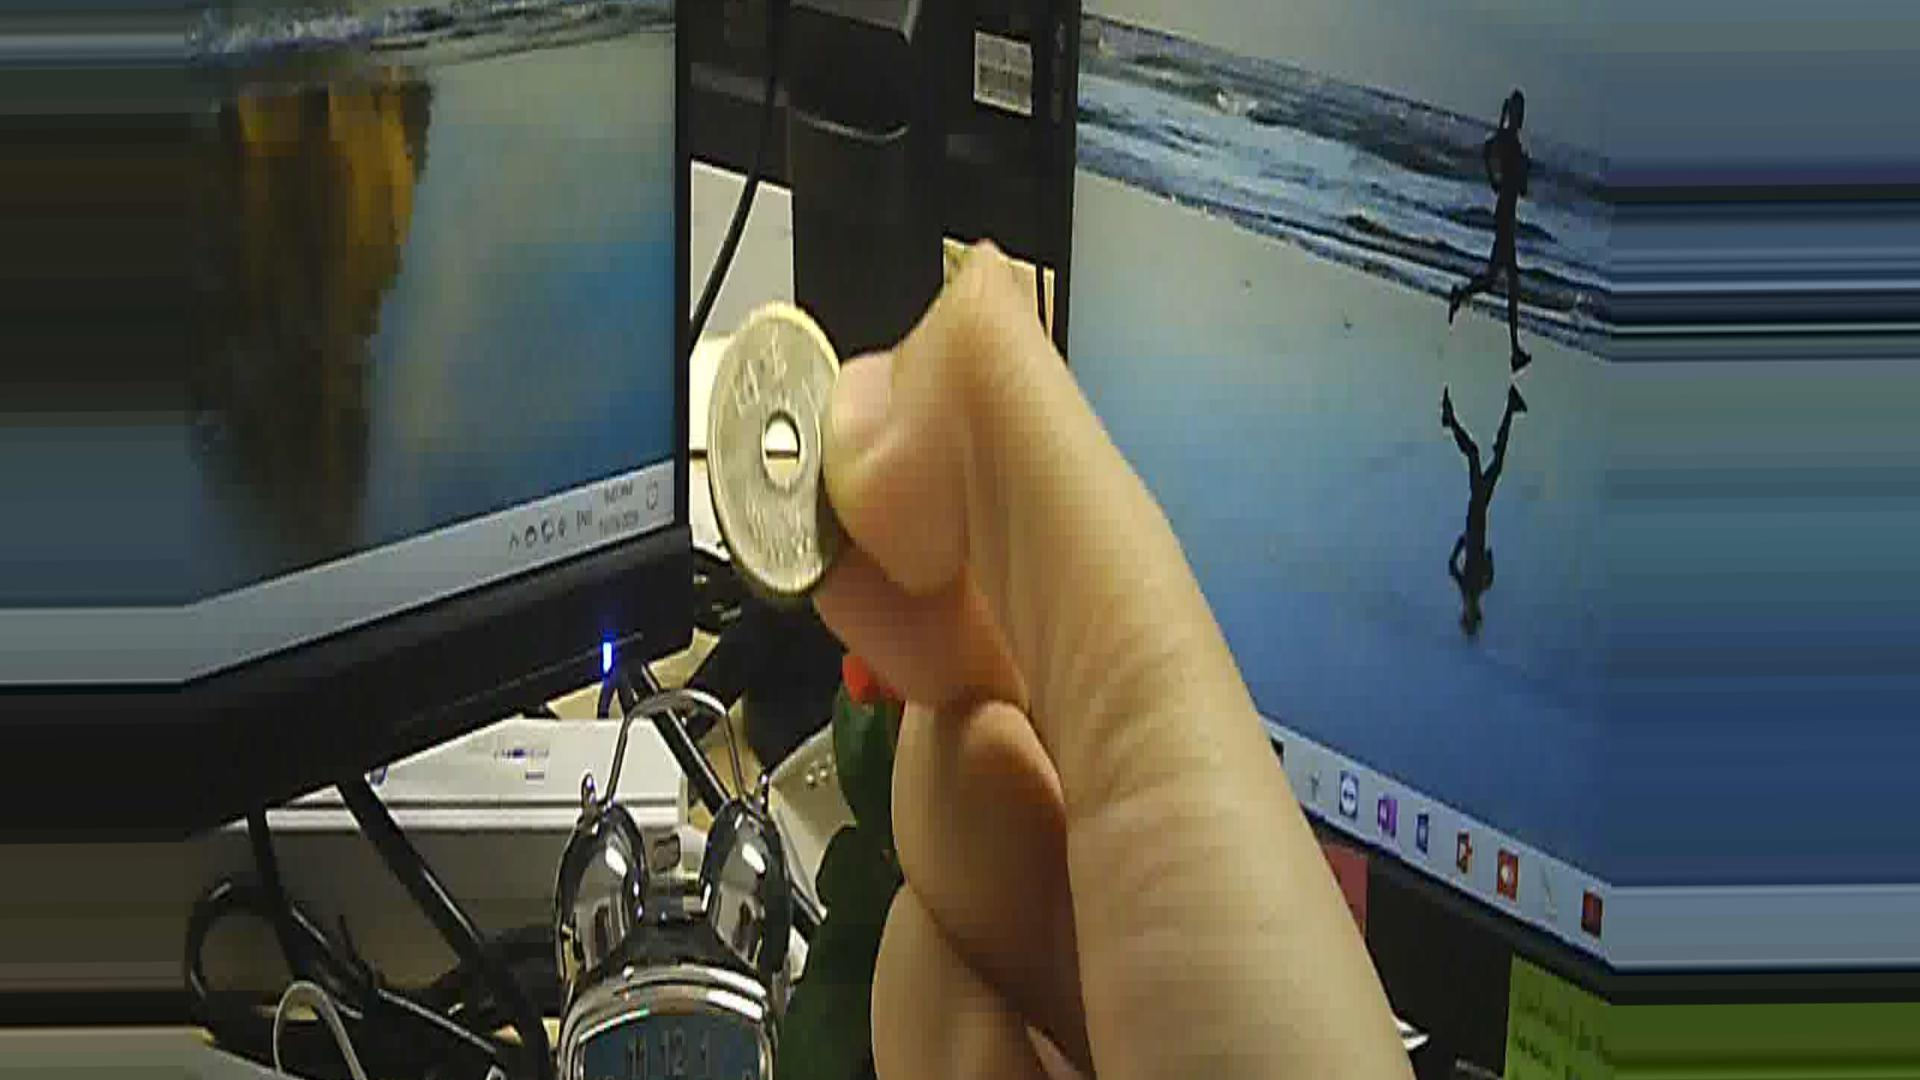5 Yen: (705, 305, 872, 596)
